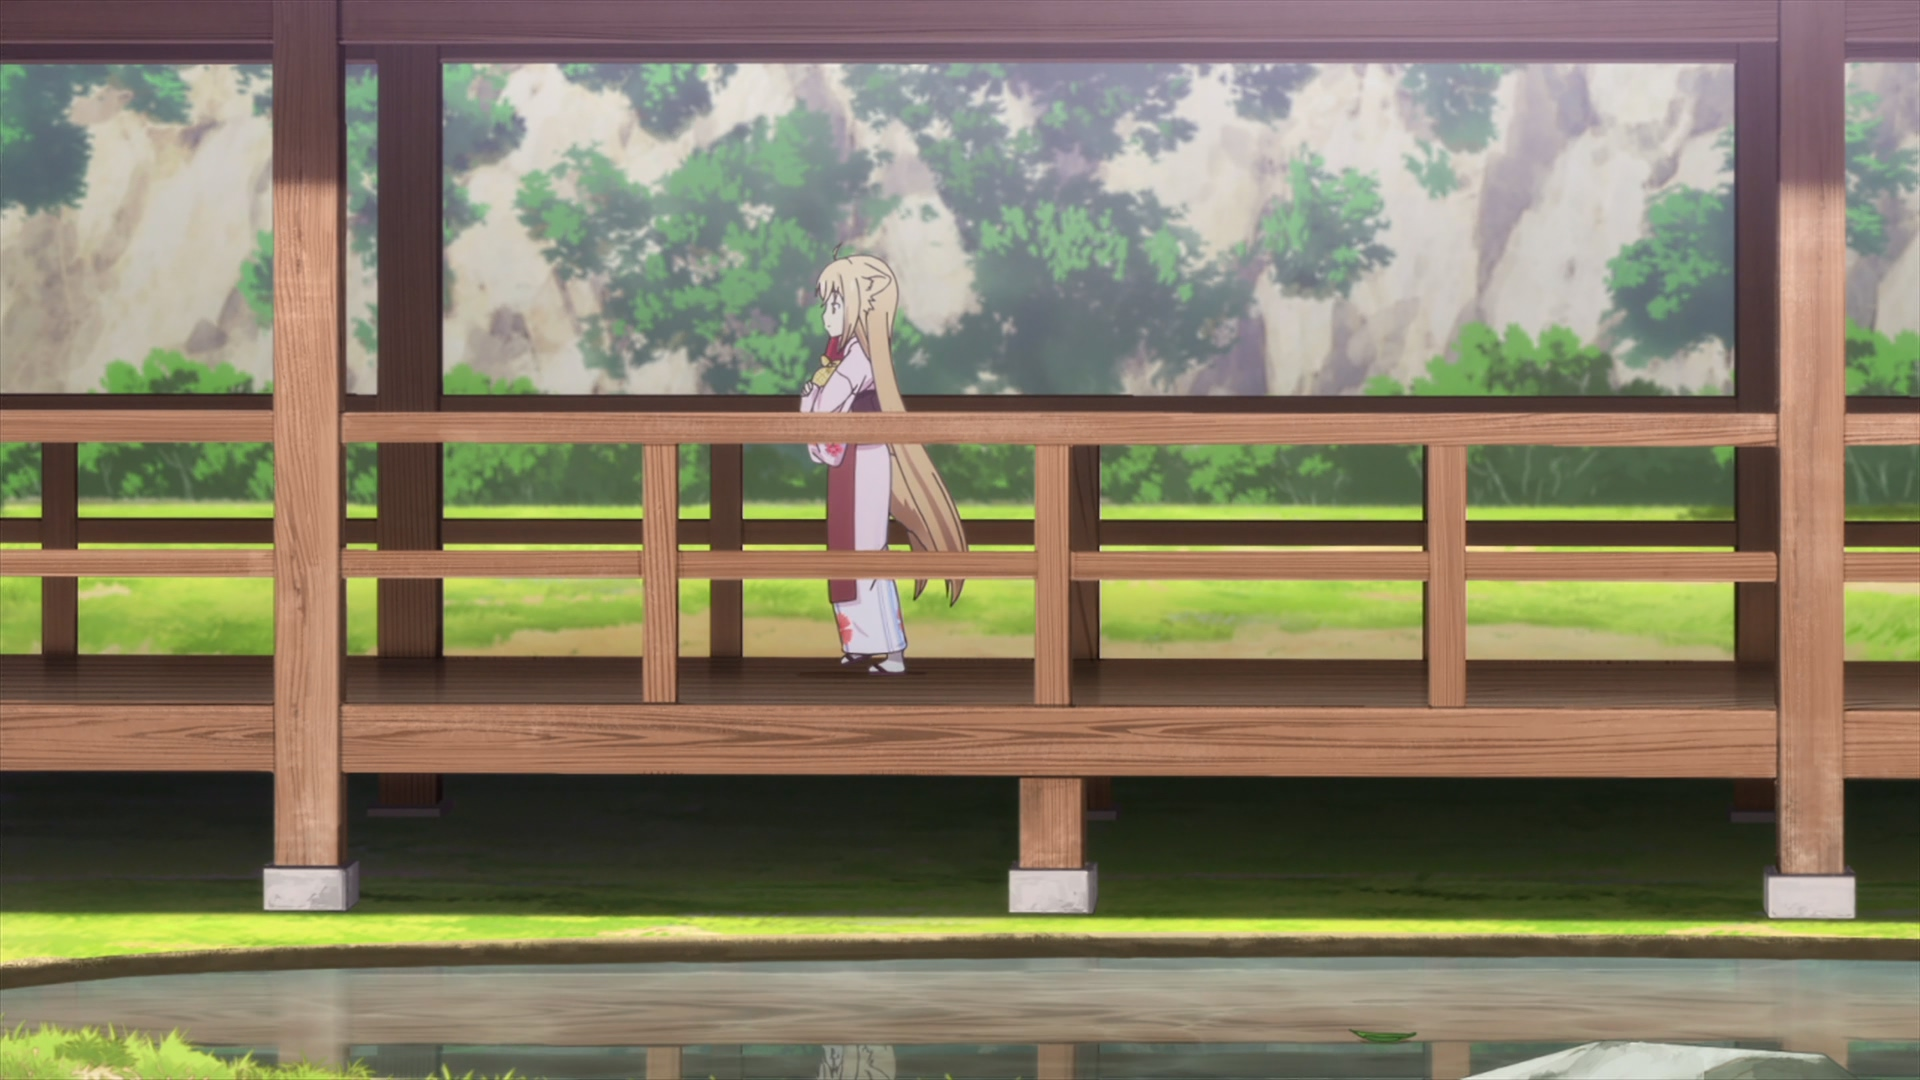柚: (798, 244, 967, 675)
